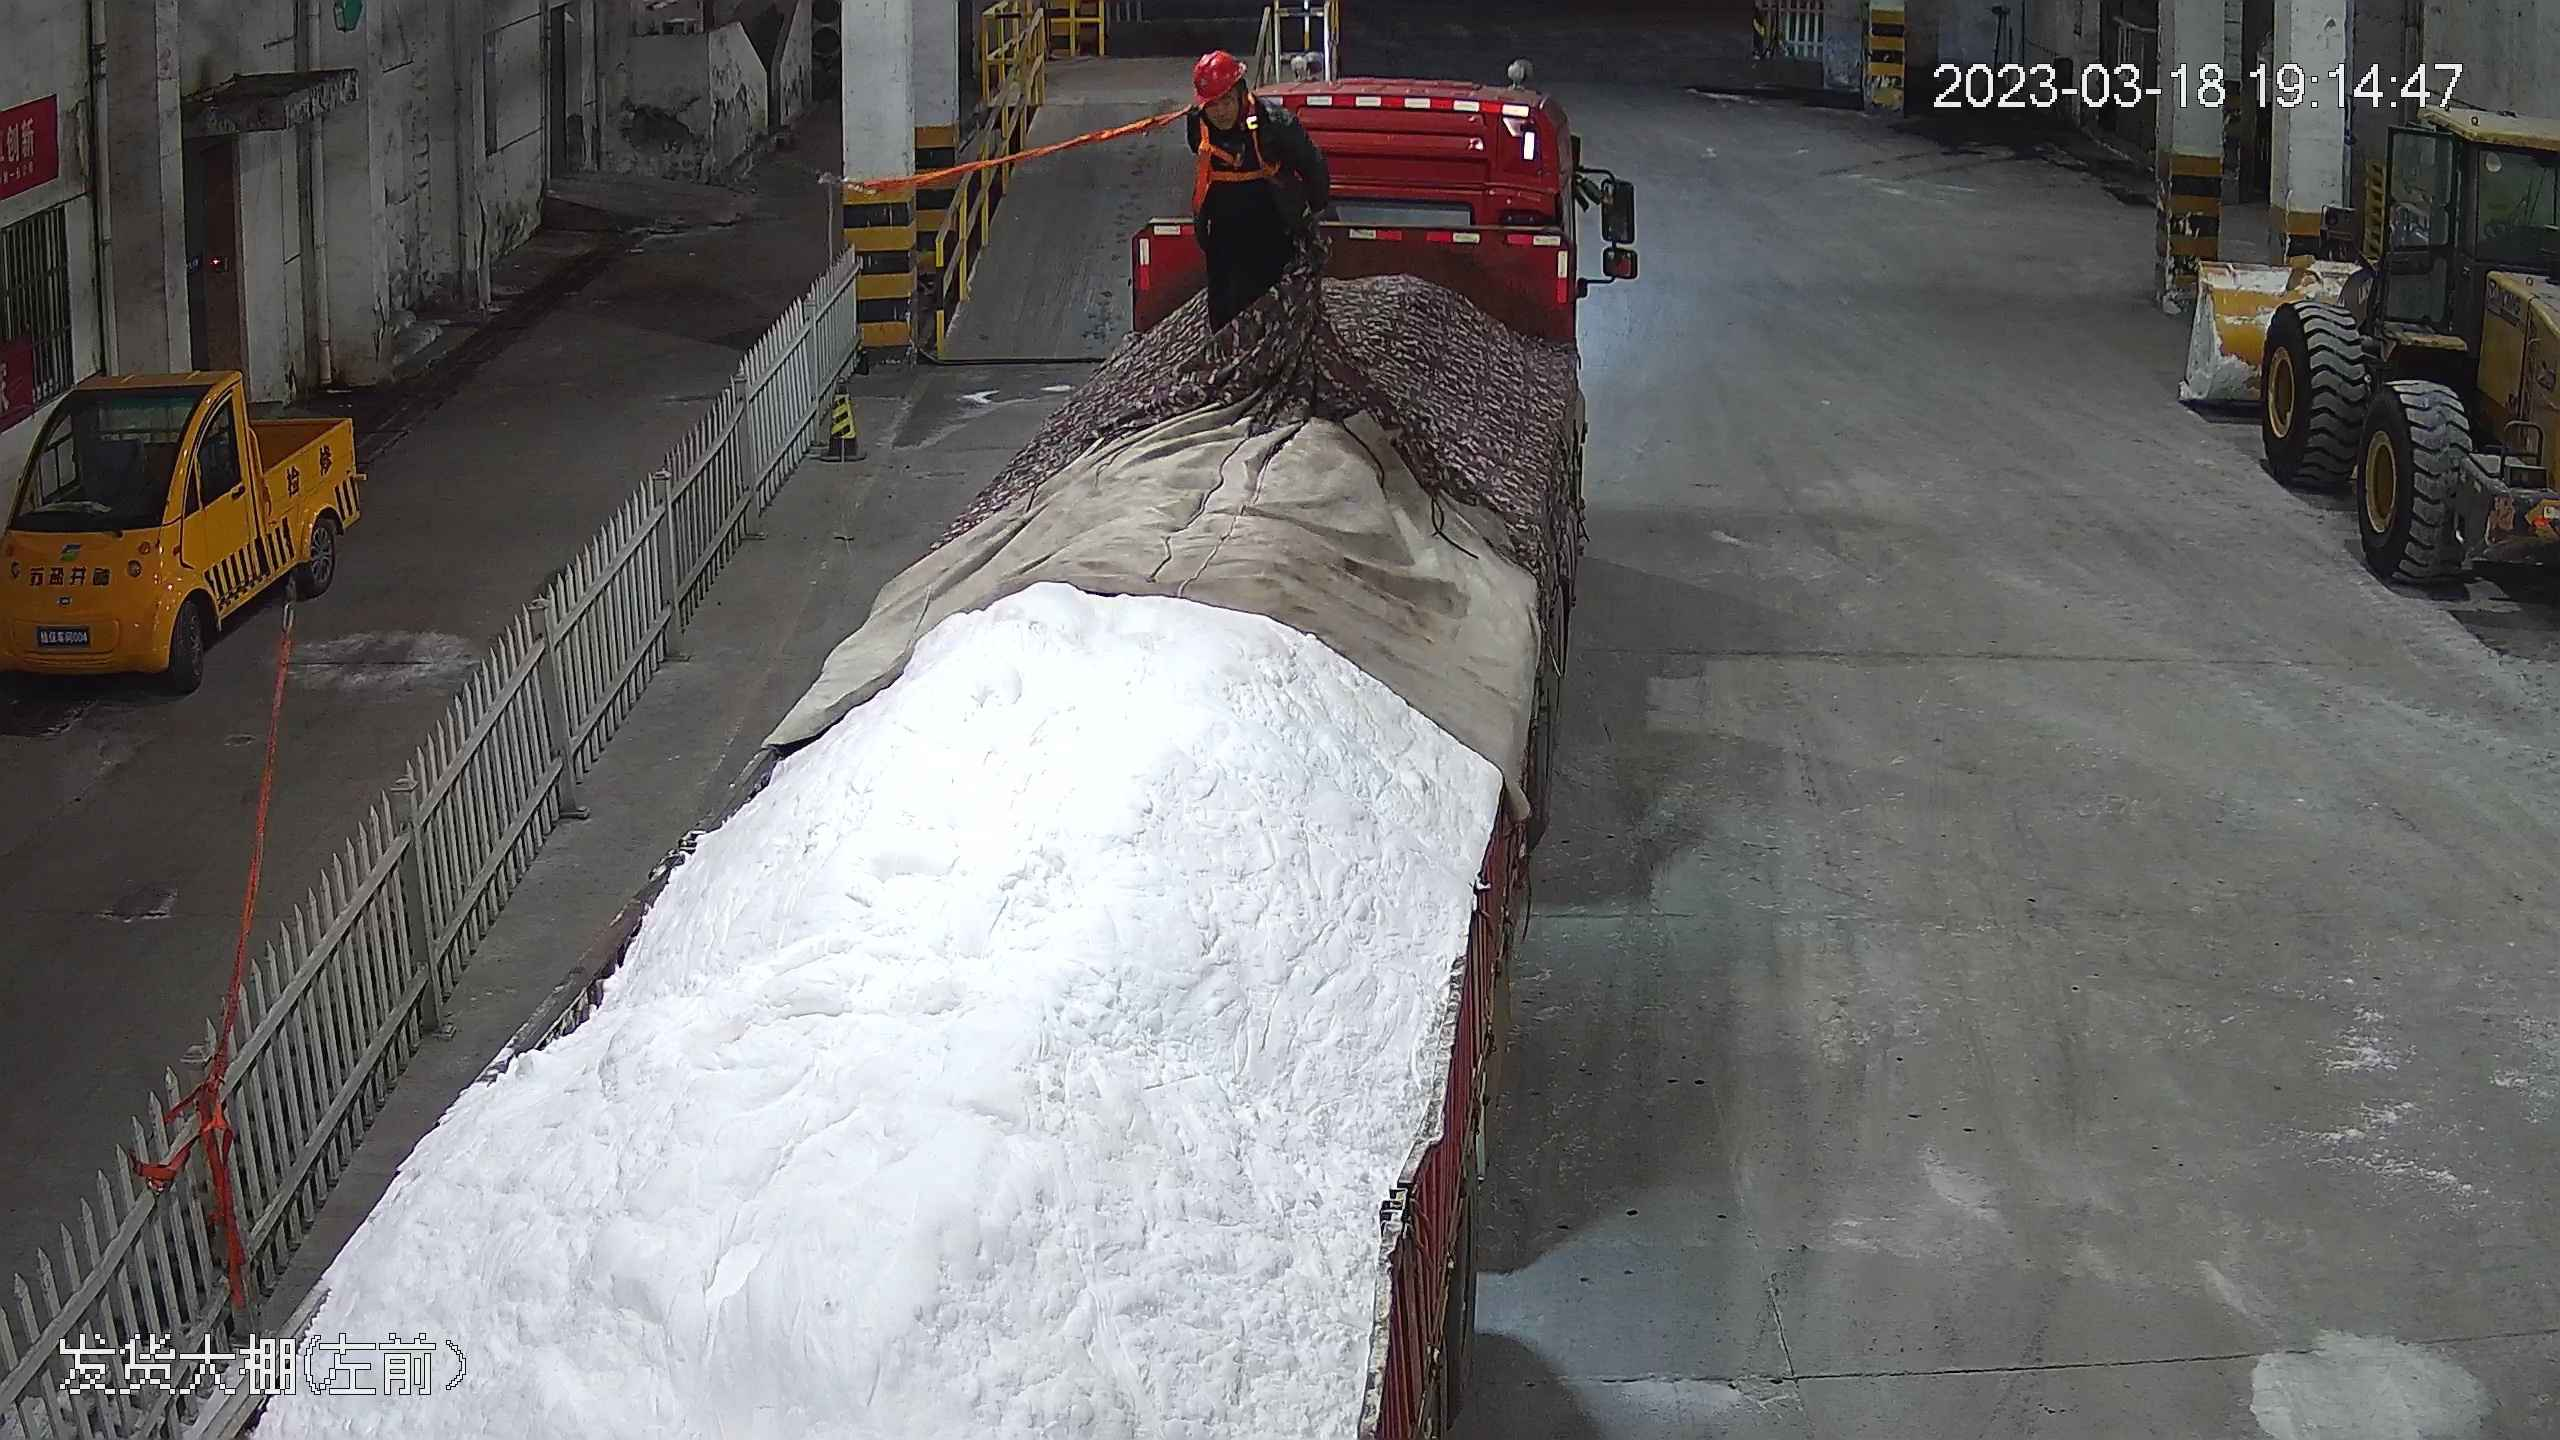belt: (1191, 99, 1281, 187)
head: (1181, 47, 1300, 152)
helmet: (1192, 47, 1246, 96)
people: (1177, 41, 1331, 409)
truck: (245, 22, 1587, 1440)
